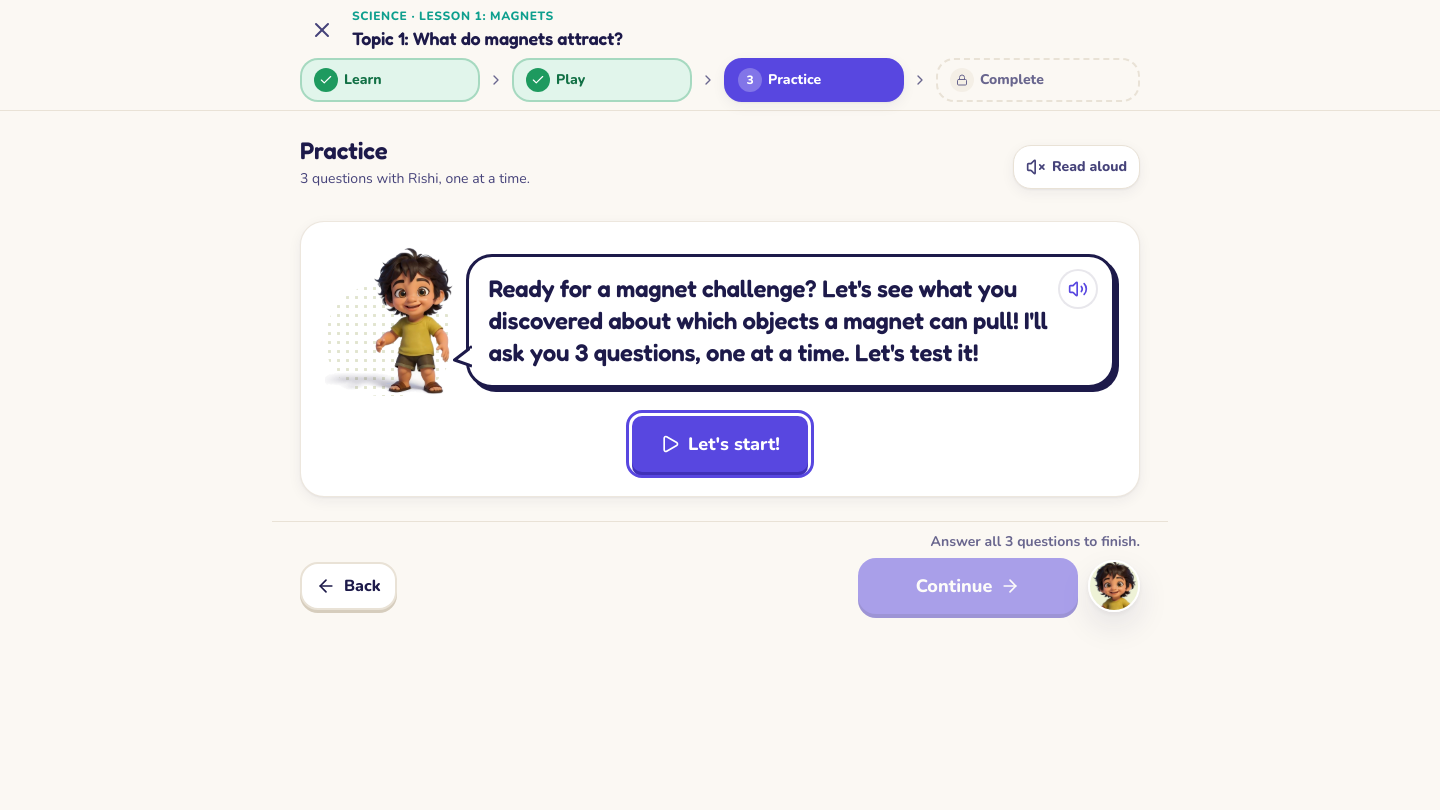
Test: Practice as a comic conversation › speaks with Rishi for a learner who chose Rishi
Expected: the text "Let's test it!" is shown, 488,274 -> 1048,367
Click the button "Let's start!".
click(720, 444)  # box 632,416 -> 808,472
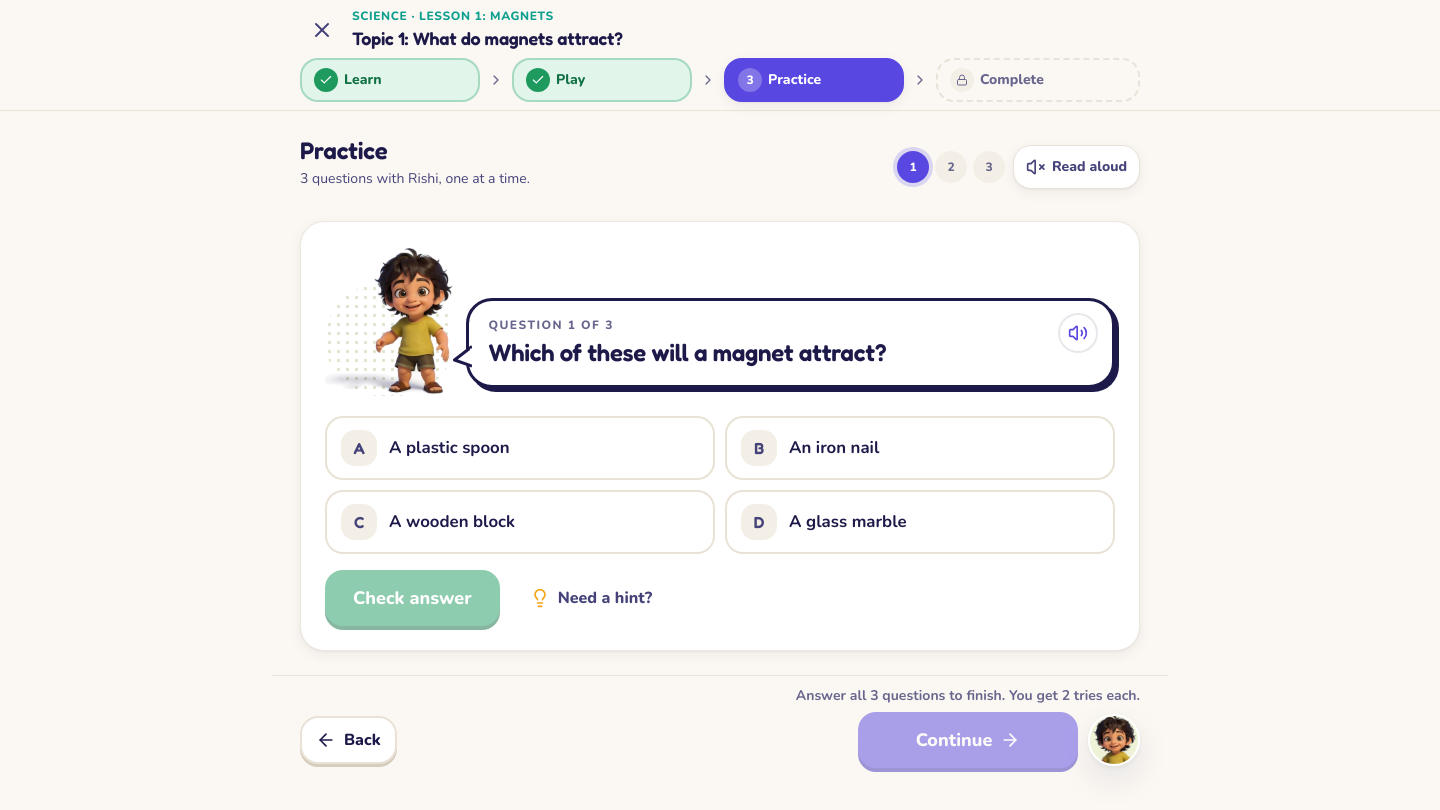
Click the radio button labelled "B An iron nail".
click(759, 448)  # box 725,416 -> 1115,480
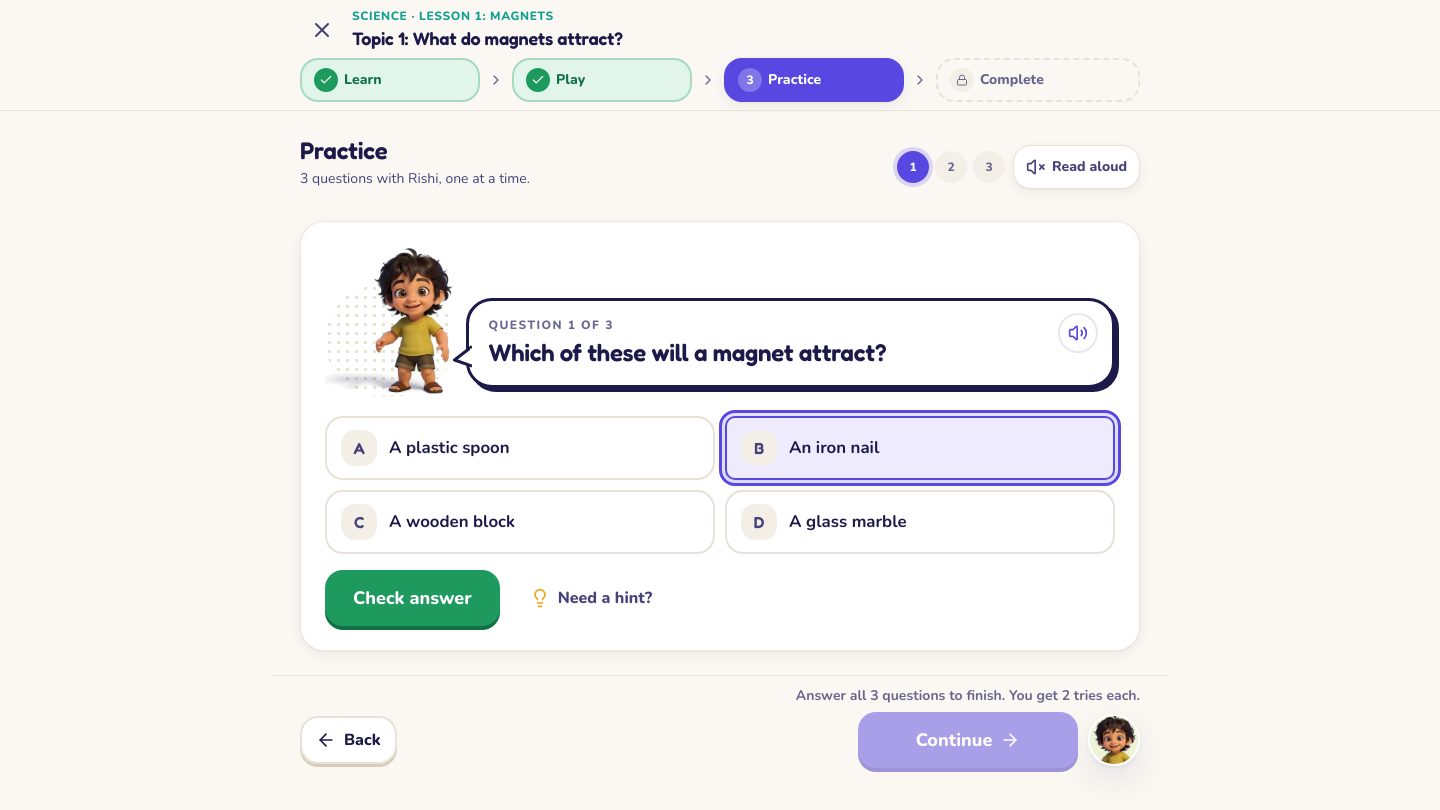
Click the button "Check answer".
click(412, 598)  # box 325,570 -> 500,626
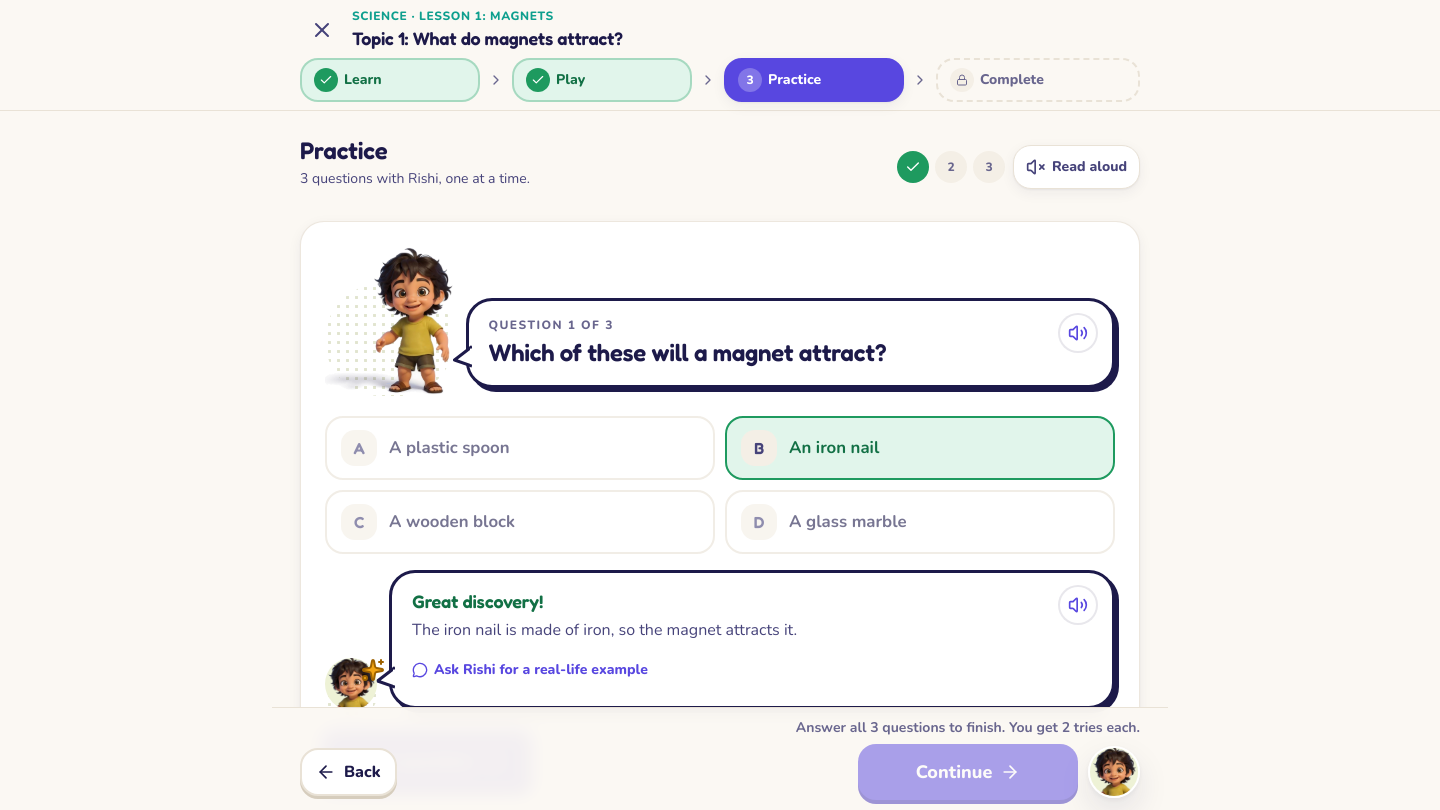
Expected: the picture named "Rishi" is shown, 325,246 -> 454,396
Now the text "Great discovery!" is shown, box 412,590 -> 543,612
